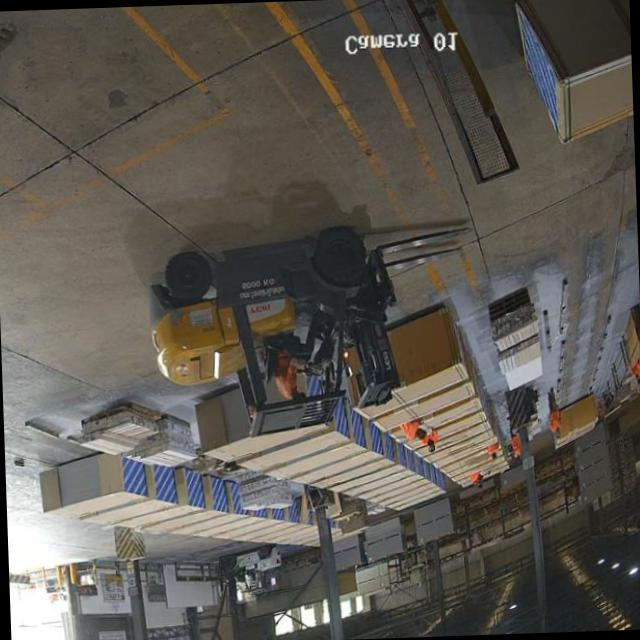driver: (258, 315, 330, 414)
forklift: (138, 221, 406, 444)
person: (548, 388, 563, 441), (401, 416, 424, 444), (422, 430, 437, 453)
